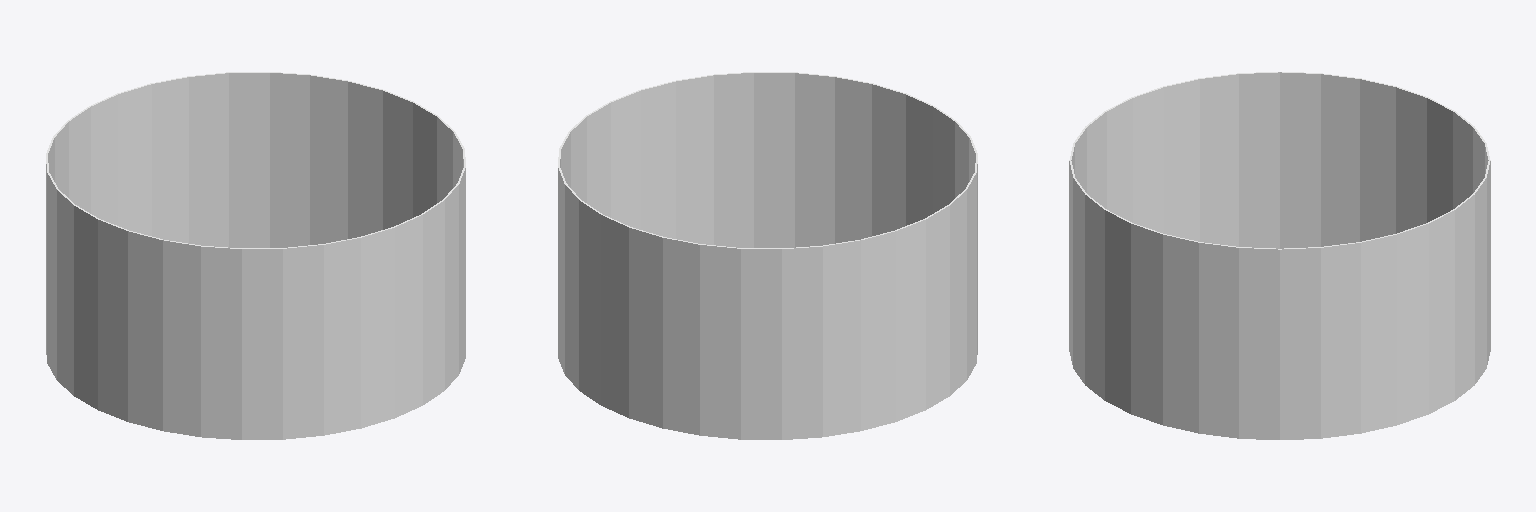
File: Pipe.obj
3 renders of one model, left to right at view 1: azimuth 30°, elevation 25°; view 2: azimuth 150°, elevation 25°; view 3: azimuth 270°, elevation 25°, orthographic.
Parts seen in each view (by area): view 1: Pipe; view 2: Pipe; view 3: Pipe.
Boxes of the visible parts, x1,y1,x2,y2 form: Pipe: [46, 72, 465, 439]; Pipe: [558, 72, 977, 439]; Pipe: [1069, 72, 1490, 439].
Size of the model in its own units: 2 by 1 by 2.